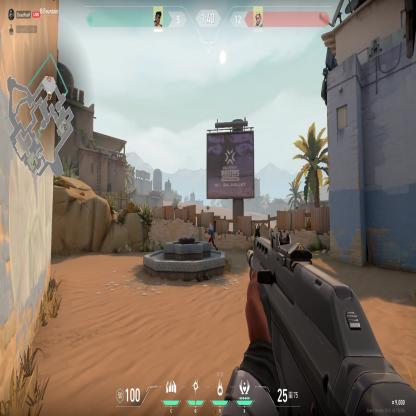enemy: (205, 222, 219, 251)
